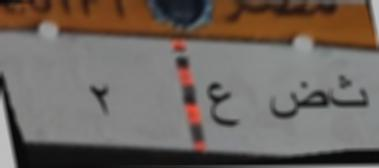2: (87, 78, 120, 124)
ain: (205, 78, 244, 138)
daad: (268, 78, 328, 126)
thaa: (330, 72, 372, 115)
